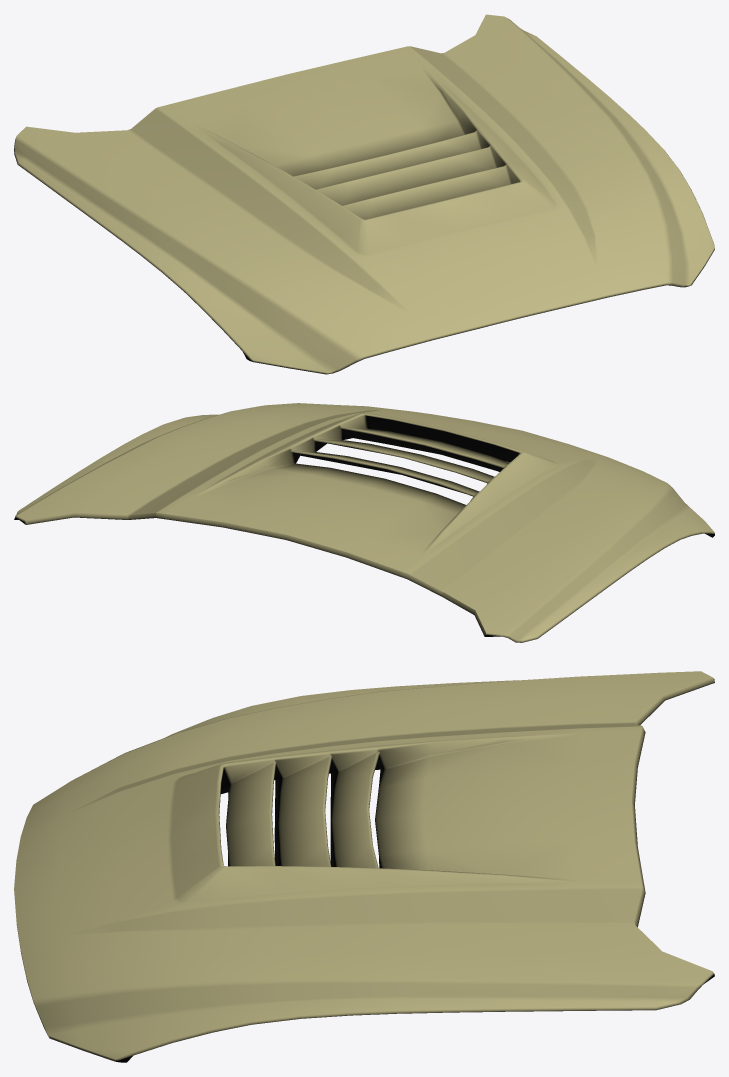
File: Mustang16_Hood_09_Duco.fbx
3 renders of one model, top to bottom at view 1: azimuth 30°, elevation 25°; view 2: azimuth 150°, elevation 25°; view 3: azimuth 270°, elevation 25°, orthographic. The views are drawn at different scales.
Visible parts, largest first — view 1: Mustang16_Hood_09_Duco; view 2: Mustang16_Hood_09_Duco; view 3: Mustang16_Hood_09_Duco.
Part boxes in pixels (x1,y1,x2,y2): Mustang16_Hood_09_Duco: (14,14,714,374); Mustang16_Hood_09_Duco: (14,403,714,642); Mustang16_Hood_09_Duco: (14,671,714,1062).
Size of the model in its own units: 168 by 28.66 by 149.
